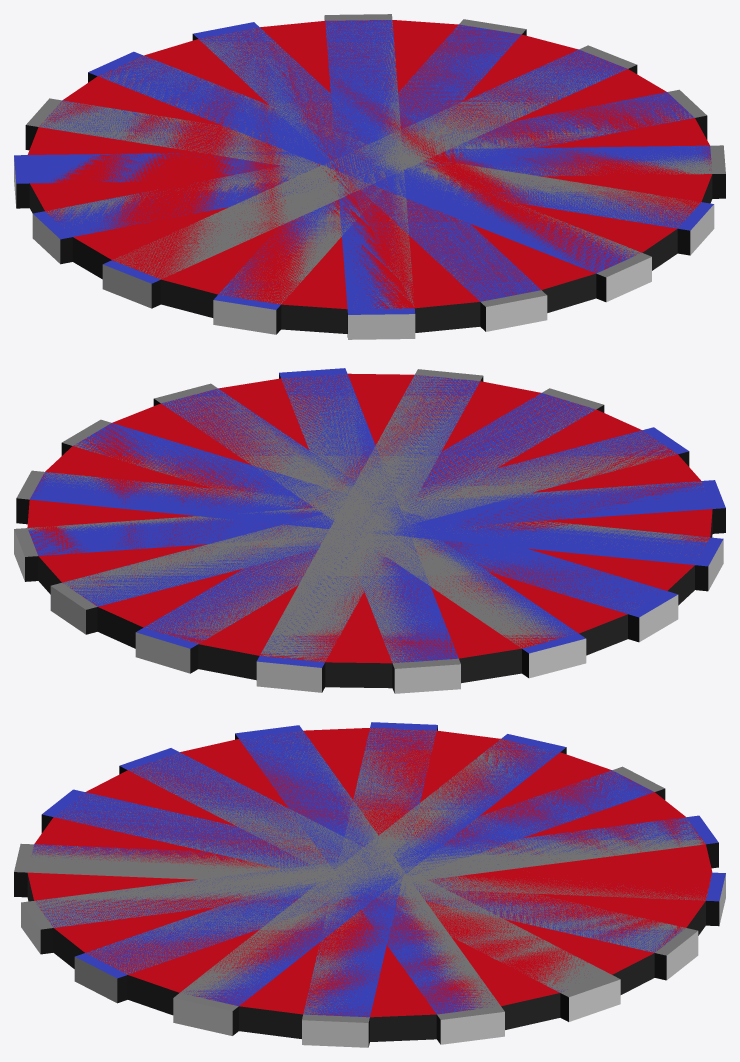
The model's file is CarStandVer6.fbx.
3 views of the same model, one above another, from view 1: azimuth 30°, elevation 25°; view 2: azimuth 150°, elevation 25°; view 3: azimuth 270°, elevation 25° (orthographic).
Parts seen in each view (by area): view 1: Cylinder.002, Cylinder.003, Cylinder, Reverse, Cylinder.001, Reverse2, Cylinder.004; view 2: Cylinder.003, Cylinder.002, Cylinder, Reverse, Cylinder.001, Reverse2, Cylinder.004; view 3: Cylinder.002, Cylinder.003, Cylinder, Reverse, Cylinder.001, Reverse2, Cylinder.004, Cylinder.005.
Boxes of the visible parts, left/top/right/bottom form: Cylinder.002: left=27, top=20, right=712, bottom=309; Cylinder.003: left=14, top=20, right=713, bottom=314; Cylinder: left=26, top=14, right=725, bottom=308; Reverse: left=14, top=157, right=714, bottom=339; Cylinder.001: left=29, top=175, right=712, bottom=333; Reverse2: left=16, top=16, right=725, bottom=337; Cylinder.004: left=14, top=165, right=714, bottom=339; Cylinder.003: left=28, top=368, right=725, bottom=667; Cylinder.002: left=27, top=373, right=712, bottom=663; Cylinder: left=14, top=369, right=709, bottom=668; Reverse: left=14, top=529, right=723, bottom=693; Cylinder.001: left=38, top=510, right=712, bottom=688; Reverse2: left=16, top=373, right=725, bottom=692; Cylinder.004: left=14, top=533, right=723, bottom=692; Cylinder.002: left=27, top=728, right=712, bottom=1017; Cylinder.003: left=32, top=722, right=725, bottom=1017; Cylinder: left=14, top=728, right=707, bottom=1022; Reverse: left=21, top=874, right=725, bottom=1047; Cylinder.001: left=27, top=874, right=705, bottom=1041; Reverse2: left=14, top=726, right=719, bottom=1046; Cylinder.004: left=21, top=877, right=725, bottom=1047; Cylinder.005: left=14, top=734, right=719, bottom=1040.
Size of the model in its own units: 1010 by 38.86 by 1010.
